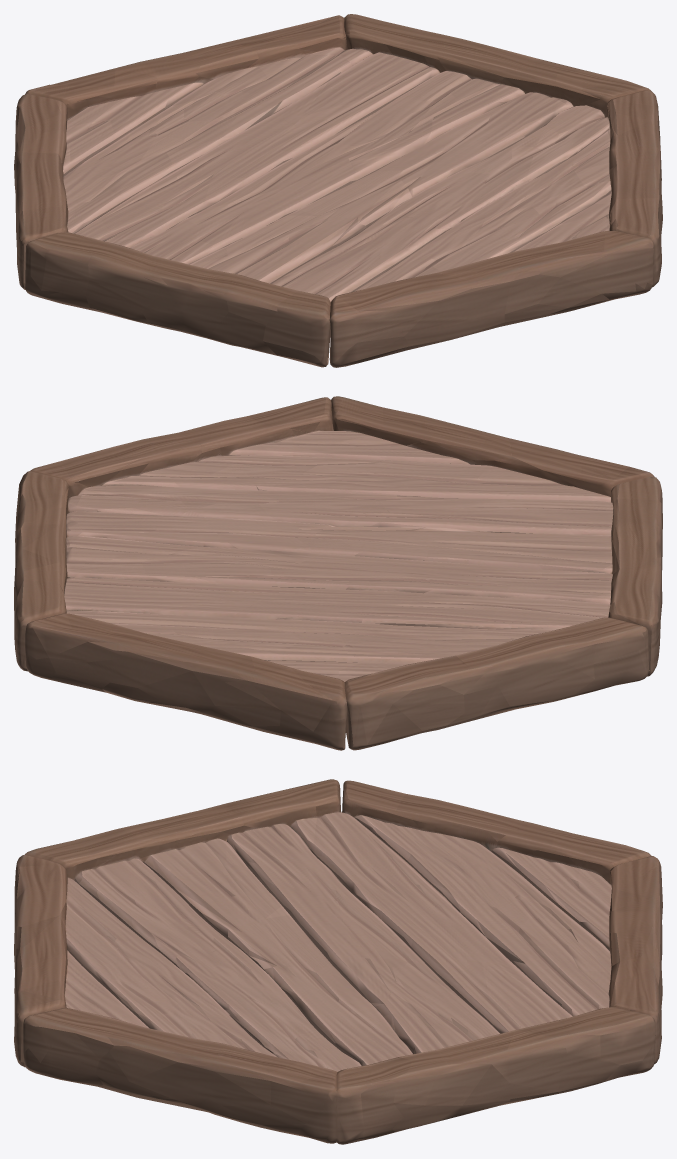
The model's file is deque.glb.
The picture shows the model from 3 angles, top to bottom: view 1: azimuth 30°, elevation 25°; view 2: azimuth 150°, elevation 25°; view 3: azimuth 270°, elevation 25°; orthographic projection. The views are drawn at different scales.
Size of the model in its own units: 1.9 by 0.1665 by 1.66.
1 material, 1 textured.
